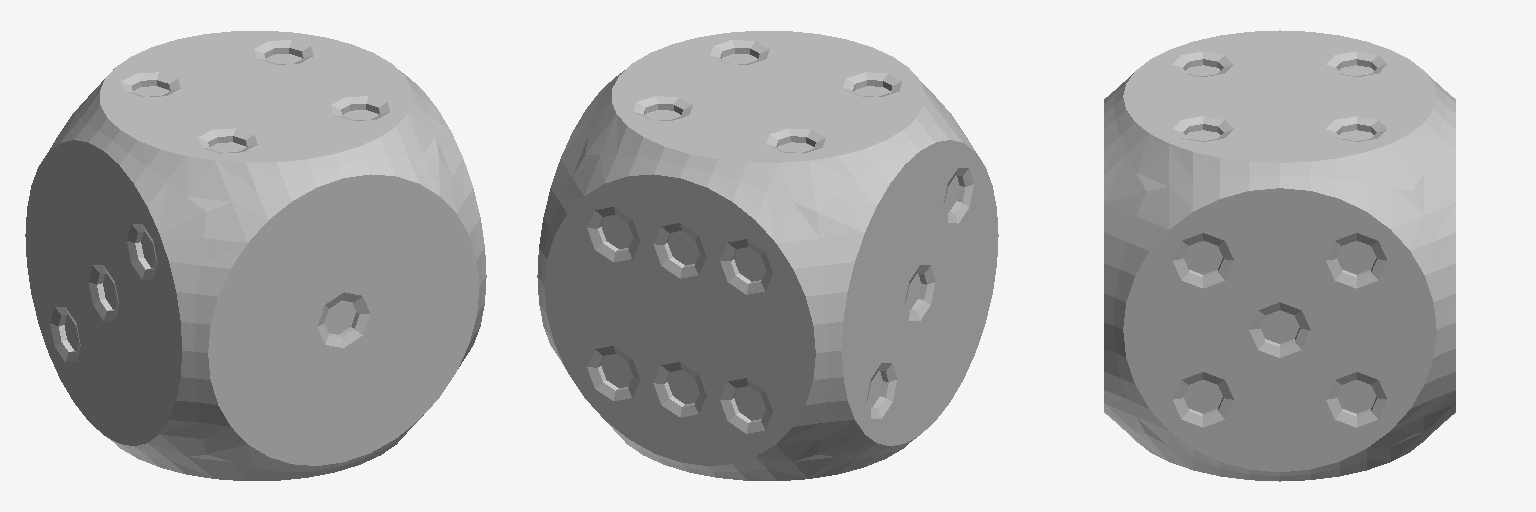
Rendered from dice.obj.
The picture shows the model from 3 angles: view 1: azimuth 30°, elevation 25°; view 2: azimuth 150°, elevation 25°; view 3: azimuth 270°, elevation 25°; orthographic projection.
Visible parts, largest first — view 1: Dice_Cube.007; view 2: Dice_Cube.007; view 3: Dice_Cube.007.
Part boxes in pixels (bbox=[...]): Dice_Cube.007: bbox=[25, 31, 486, 480]; Dice_Cube.007: bbox=[537, 31, 998, 480]; Dice_Cube.007: bbox=[1104, 30, 1455, 481].
Bounding box in the file's own units: 35.26 × 35.26 × 35.26.